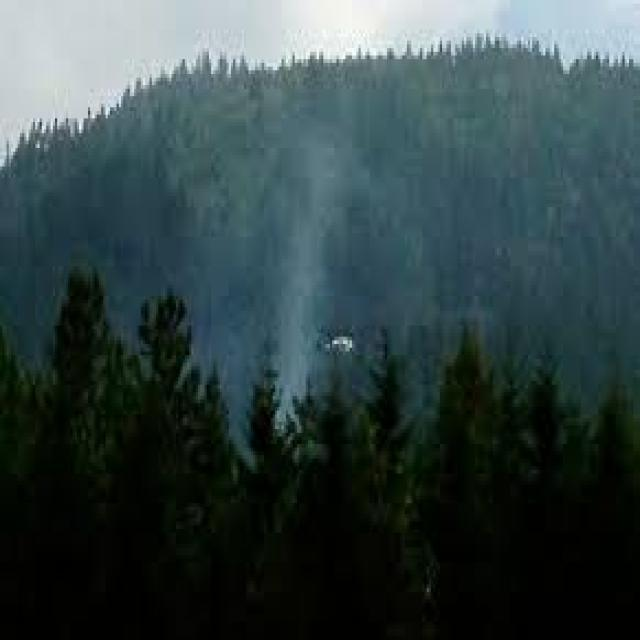Smoke: (266, 108, 326, 489)
